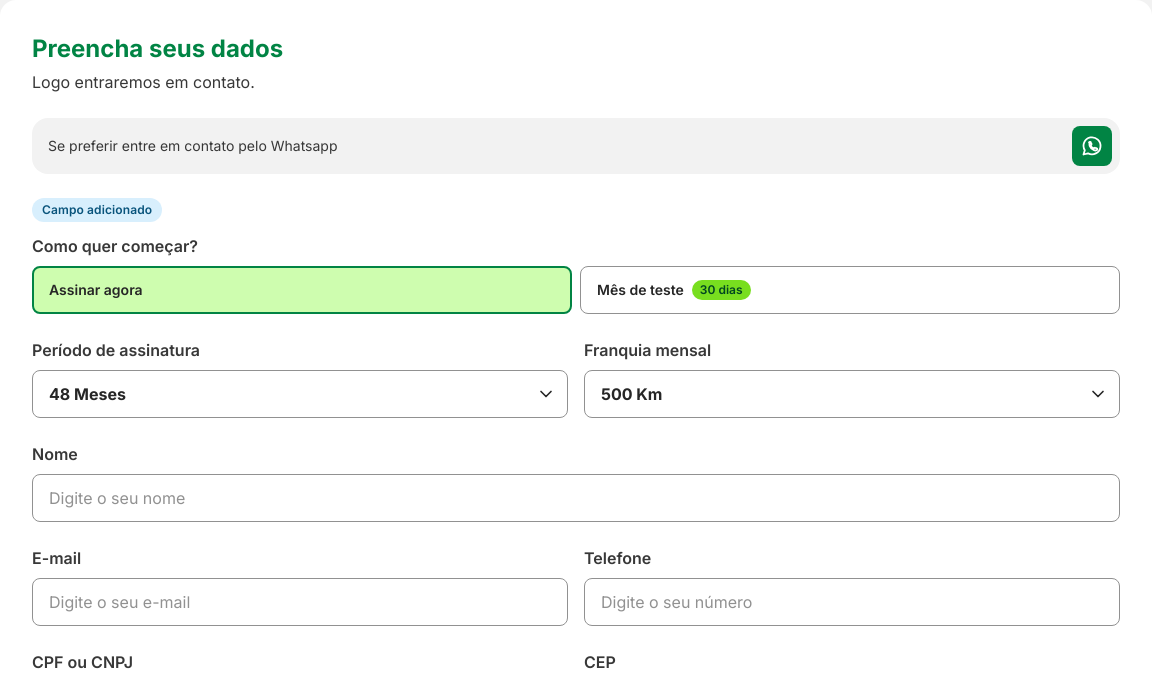
QuoteForm › mostra o erro só depois de sair do campo
The width and height of the screenshot is (1152, 675).
Type "ana@" into the field labelled "E-mail".
click(300, 602); type("ana@")  # box [32,578,568,626]
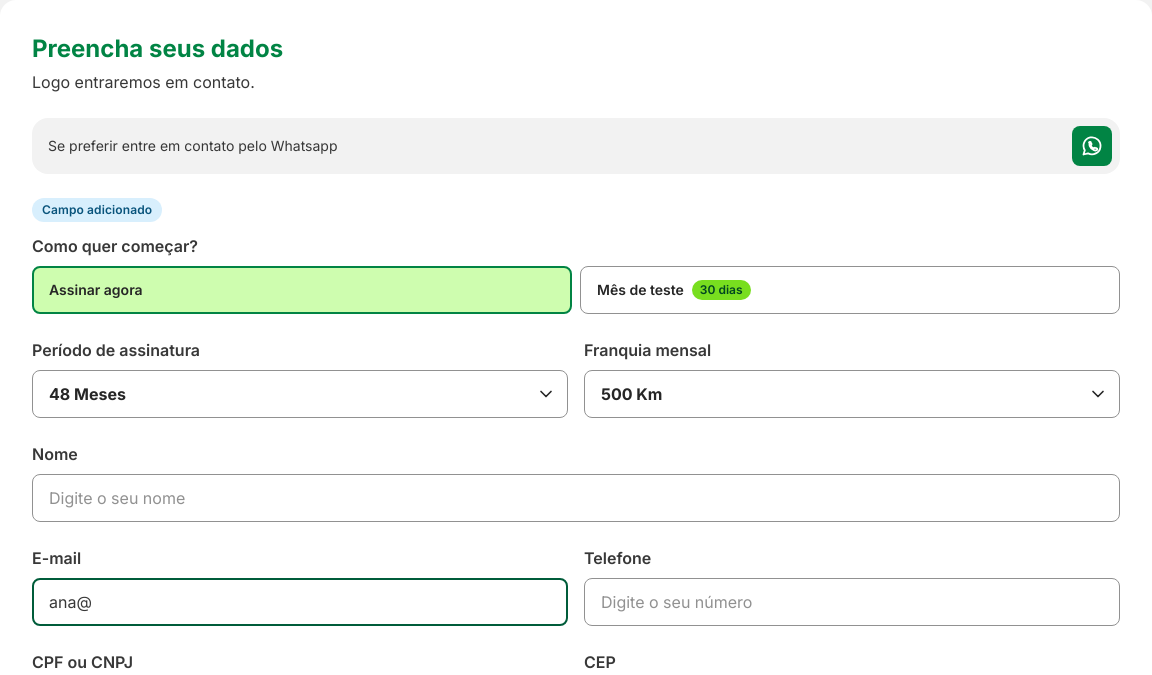
Expected: the text "Digite um e-mail válido." is not shown
Press Tab
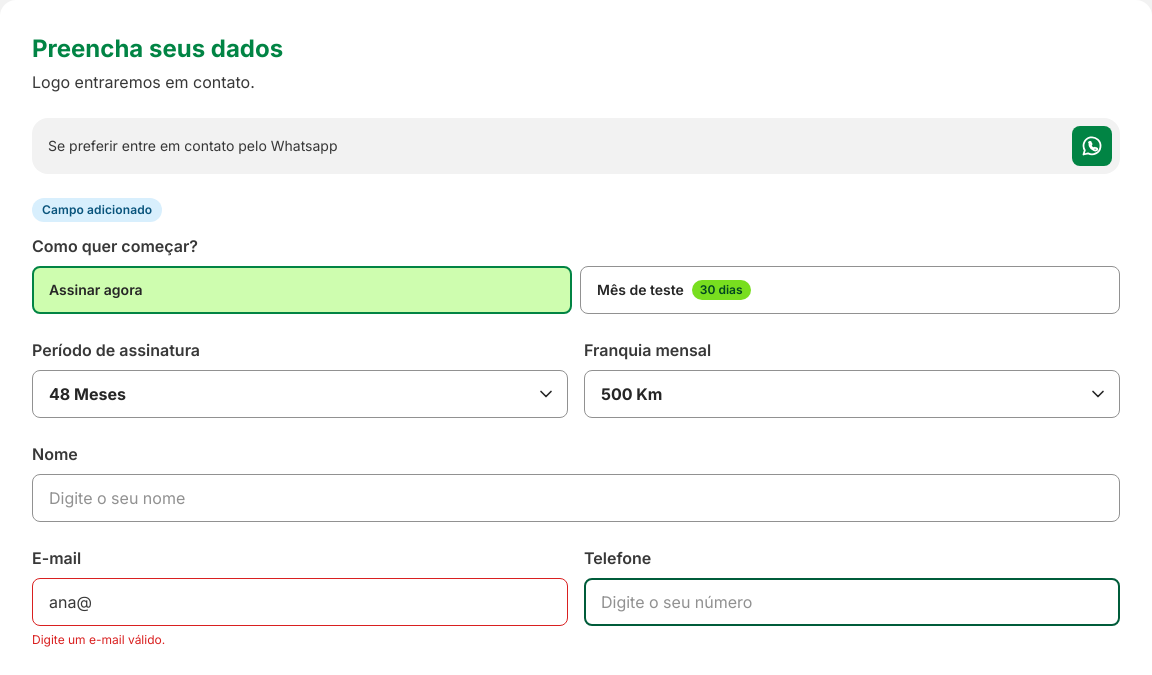
Expected: the text "Digite um e-mail válido." is shown, [32,632,165,647]
